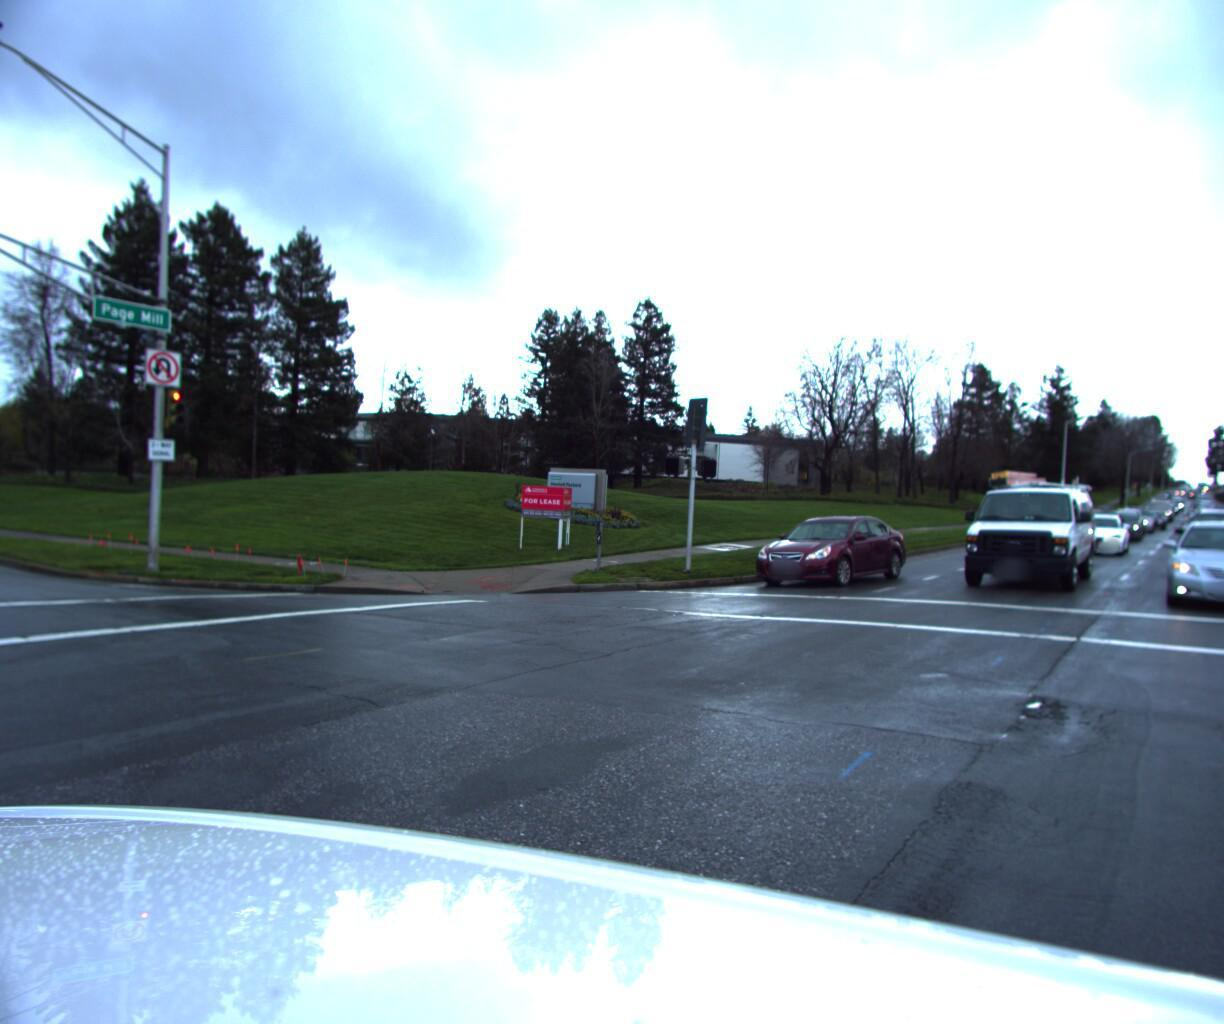car: (943, 456, 1096, 591), (747, 509, 921, 594), (1156, 516, 1224, 620), (1162, 504, 1224, 586), (1056, 508, 1126, 554), (1067, 501, 1123, 545), (1100, 505, 1147, 533)
